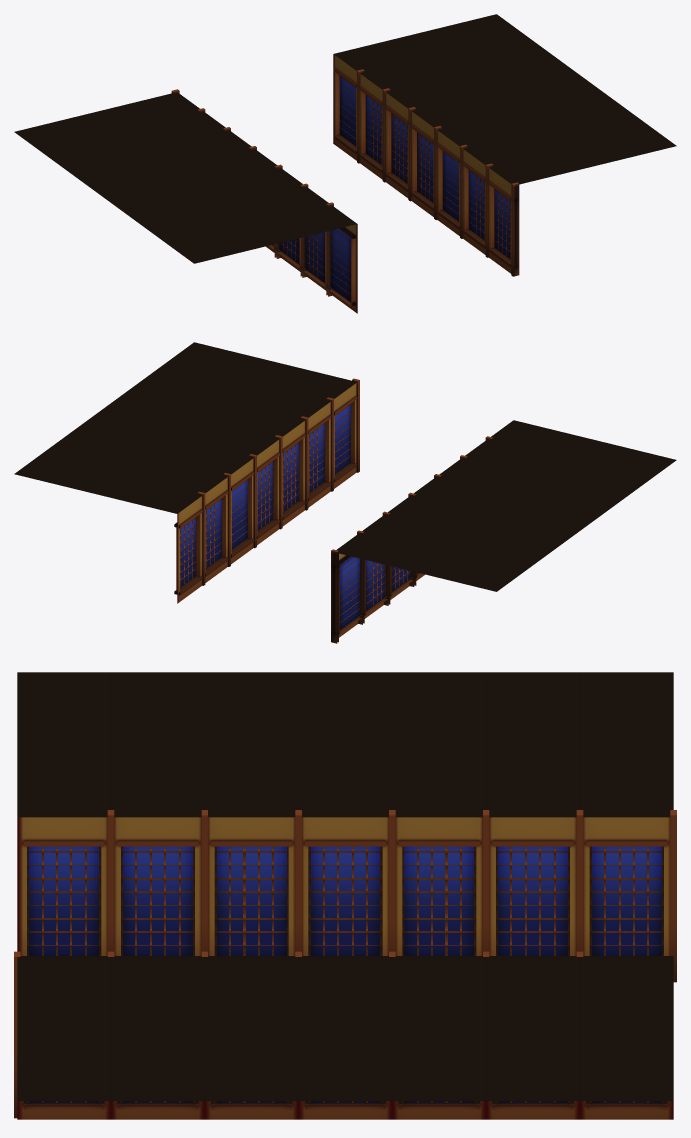
File: ballroom_wall.FBX
The picture shows the model from 3 angles, top to bottom: view 1: azimuth 30°, elevation 25°; view 2: azimuth 150°, elevation 25°; view 3: azimuth 270°, elevation 25°; orthographic projection. The views are drawn at different scales.
Parts seen in each view (by area): view 1: ballroom_wall; view 2: ballroom_wall; view 3: ballroom_wall.
Boxes of the visible parts, x1,y1,x2,y2 form: ballroom_wall: [14, 14, 676, 313]; ballroom_wall: [14, 342, 676, 643]; ballroom_wall: [14, 672, 676, 1119].
Bounding box in the file's own units: 30924 × 5611 × 20200.
